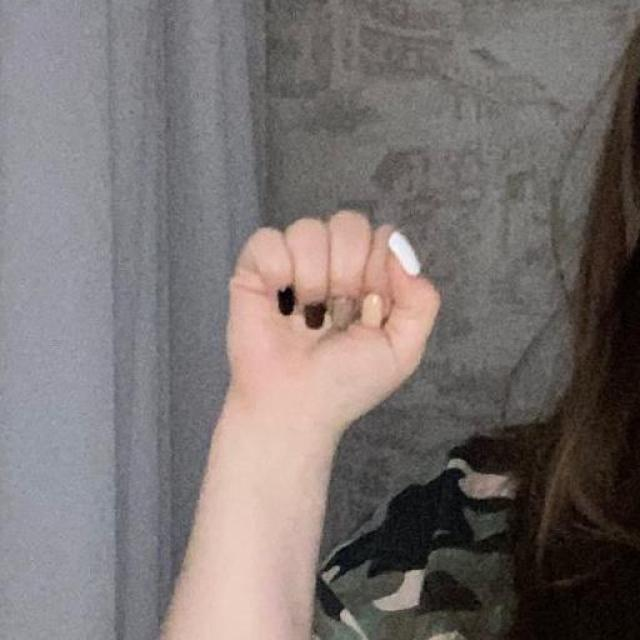hand: (221, 206, 441, 439)
